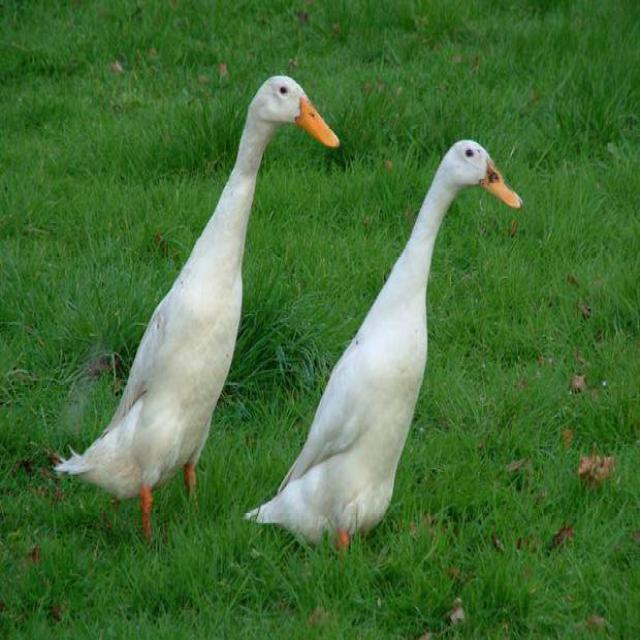Duck: (248, 105, 562, 557), (46, 54, 348, 508)
